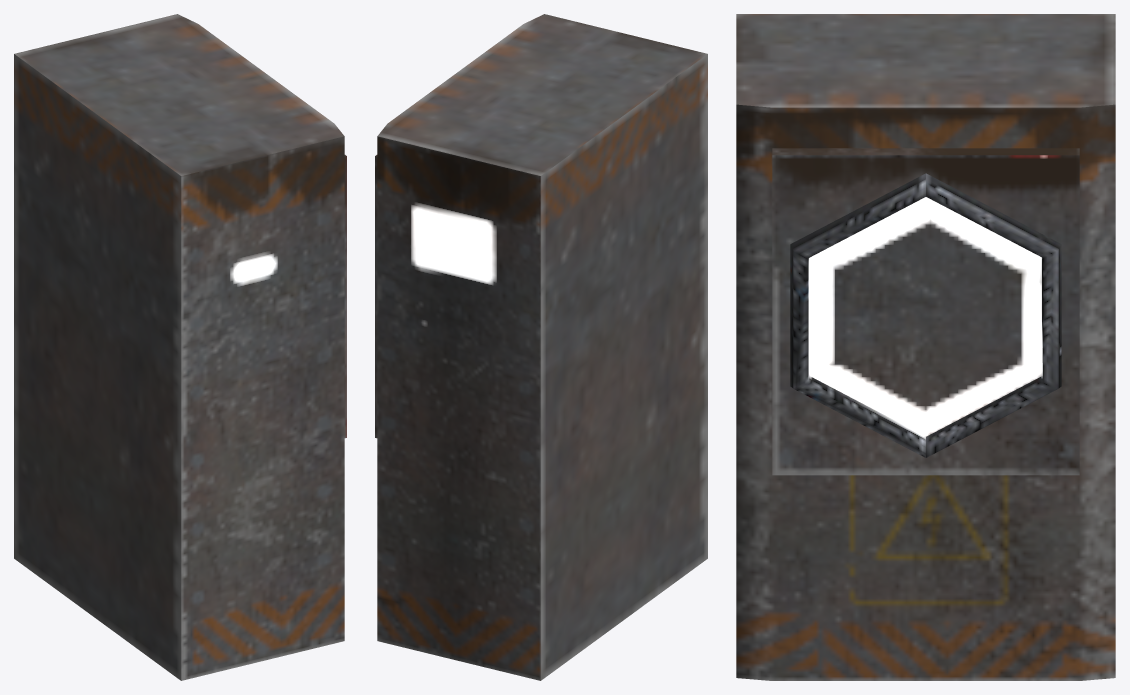
File: S_RackButton.fbx
The picture shows the model from 3 angles, left to right: view 1: azimuth 30°, elevation 25°; view 2: azimuth 150°, elevation 25°; view 3: azimuth 270°, elevation 25°; orthographic projection. The views are drawn at different scales.
Visible parts, largest first — view 1: S_RackButton; view 2: S_RackButton; view 3: S_RackButton.
Part boxes in pixels (x1,y1,x2,y2): S_RackButton: (14, 14, 346, 680); S_RackButton: (375, 14, 707, 680); S_RackButton: (736, 14, 1115, 680).
Bounding box in the file's own units: 55.12 × 140 × 84.
1 material, 1 textured.
